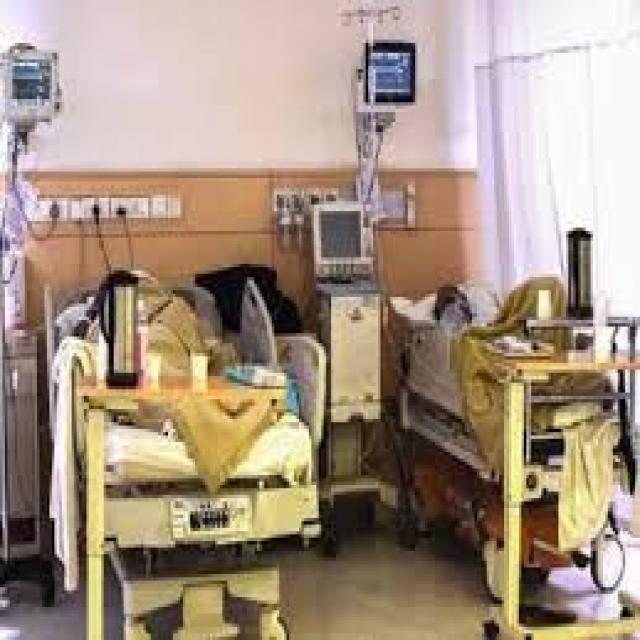cardiac_monitor: (358, 52, 426, 124), (10, 65, 71, 132)
patient_bed: (39, 264, 376, 580)
